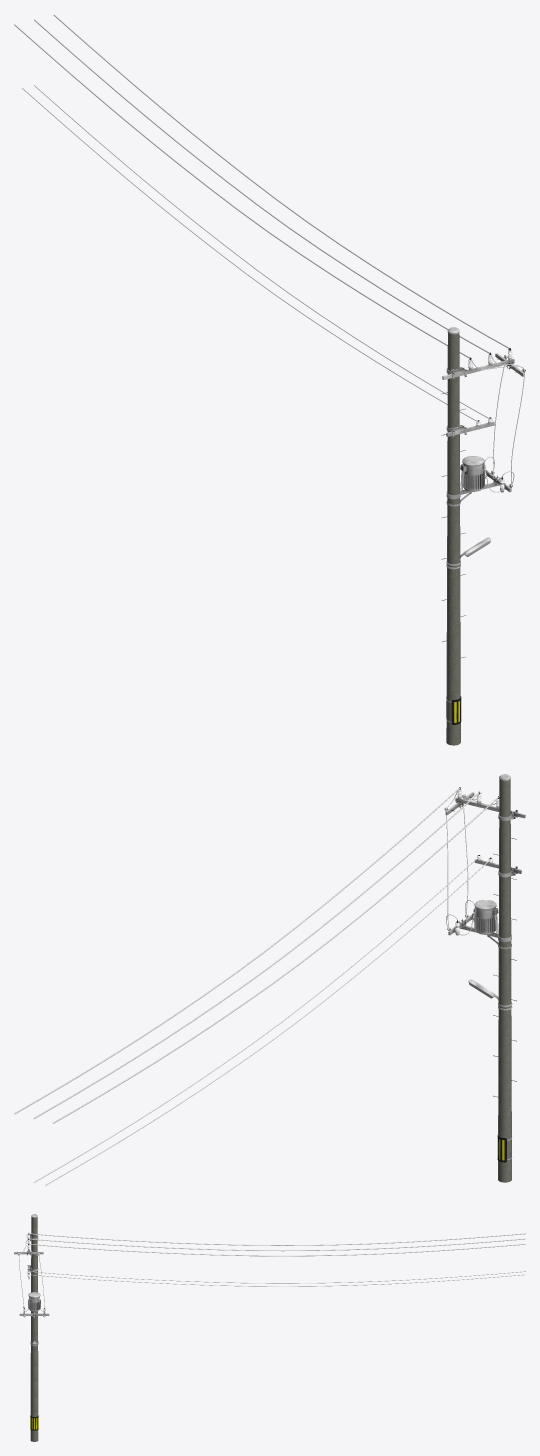
Rendered from UtilityPole.glb.
3 renders of one model, top to bottom at view 1: azimuth 30°, elevation 25°; view 2: azimuth 150°, elevation 25°; view 3: azimuth 270°, elevation 25°, orthographic. The views are drawn at different scales.
Parts seen in each view (by area): view 1: UtilityPole, UtilityPole_ElectricWire_01, UtilityPoleArm_03, UtilityPole_ElectricWire_02, UtilityPoleArm_01; view 2: UtilityPole, UtilityPole_ElectricWire_01, UtilityPoleArm_03, UtilityPole_ElectricWire_02, UtilityPoleArm_01; view 3: UtilityPole_ElectricWire_01, UtilityPole, UtilityPole_ElectricWire_02, UtilityPoleArm_03.
Boxes of the visible parts, bbox=[...] form: UtilityPole: bbox=[441, 327, 491, 745]; UtilityPole_ElectricWire_01: bbox=[14, 14, 509, 358]; UtilityPoleArm_03: bbox=[446, 365, 524, 506]; UtilityPole_ElectricWire_02: bbox=[22, 85, 488, 420]; UtilityPoleArm_01: bbox=[442, 348, 525, 380]; UtilityPole: bbox=[468, 774, 516, 1182]; UtilityPole_ElectricWire_01: bbox=[14, 787, 498, 1123]; UtilityPoleArm_03: bbox=[445, 798, 511, 949]; UtilityPole_ElectricWire_02: bbox=[33, 857, 490, 1185]; UtilityPoleArm_01: bbox=[444, 787, 525, 820]; UtilityPole_ElectricWire_01: bbox=[29, 1233, 525, 1256]; UtilityPole: bbox=[30, 1214, 38, 1441]; UtilityPole_ElectricWire_02: bbox=[30, 1271, 525, 1286]; UtilityPoleArm_03: bbox=[18, 1255, 49, 1318].
Size of the model in its own units: 1.86 by 10 by 20.6.
Materials: 5 (3 with a texture image).
